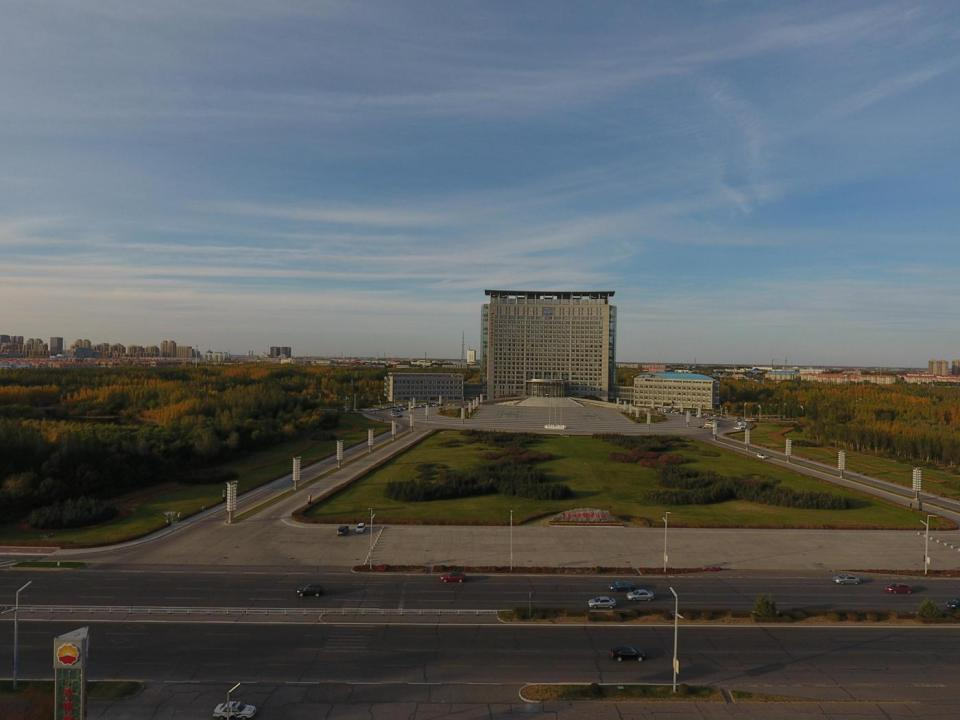bus: (705, 421, 717, 428)
car: (212, 701, 258, 720), (609, 644, 646, 662), (296, 582, 324, 598), (587, 596, 617, 609), (626, 589, 656, 602), (884, 581, 914, 594), (608, 580, 636, 593), (439, 570, 467, 583), (832, 574, 862, 585), (336, 524, 350, 537), (945, 598, 960, 609), (355, 521, 367, 534), (756, 452, 767, 459), (392, 412, 401, 417), (703, 424, 712, 429), (732, 426, 742, 430), (396, 413, 403, 418), (697, 425, 705, 429)
